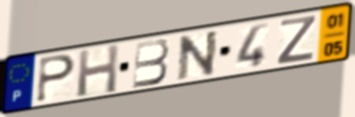4: (234, 22, 269, 70)
B: (131, 37, 171, 90)
H: (75, 42, 121, 99)
N: (176, 28, 221, 83)
P: (34, 53, 78, 105)
Z: (275, 14, 319, 67)
